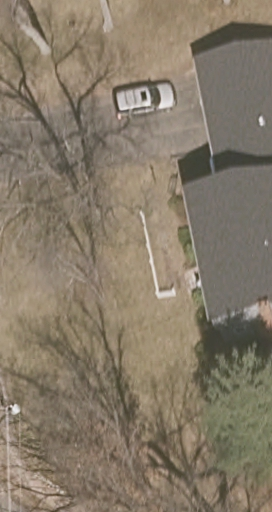DT: (1, 401, 20, 426)
